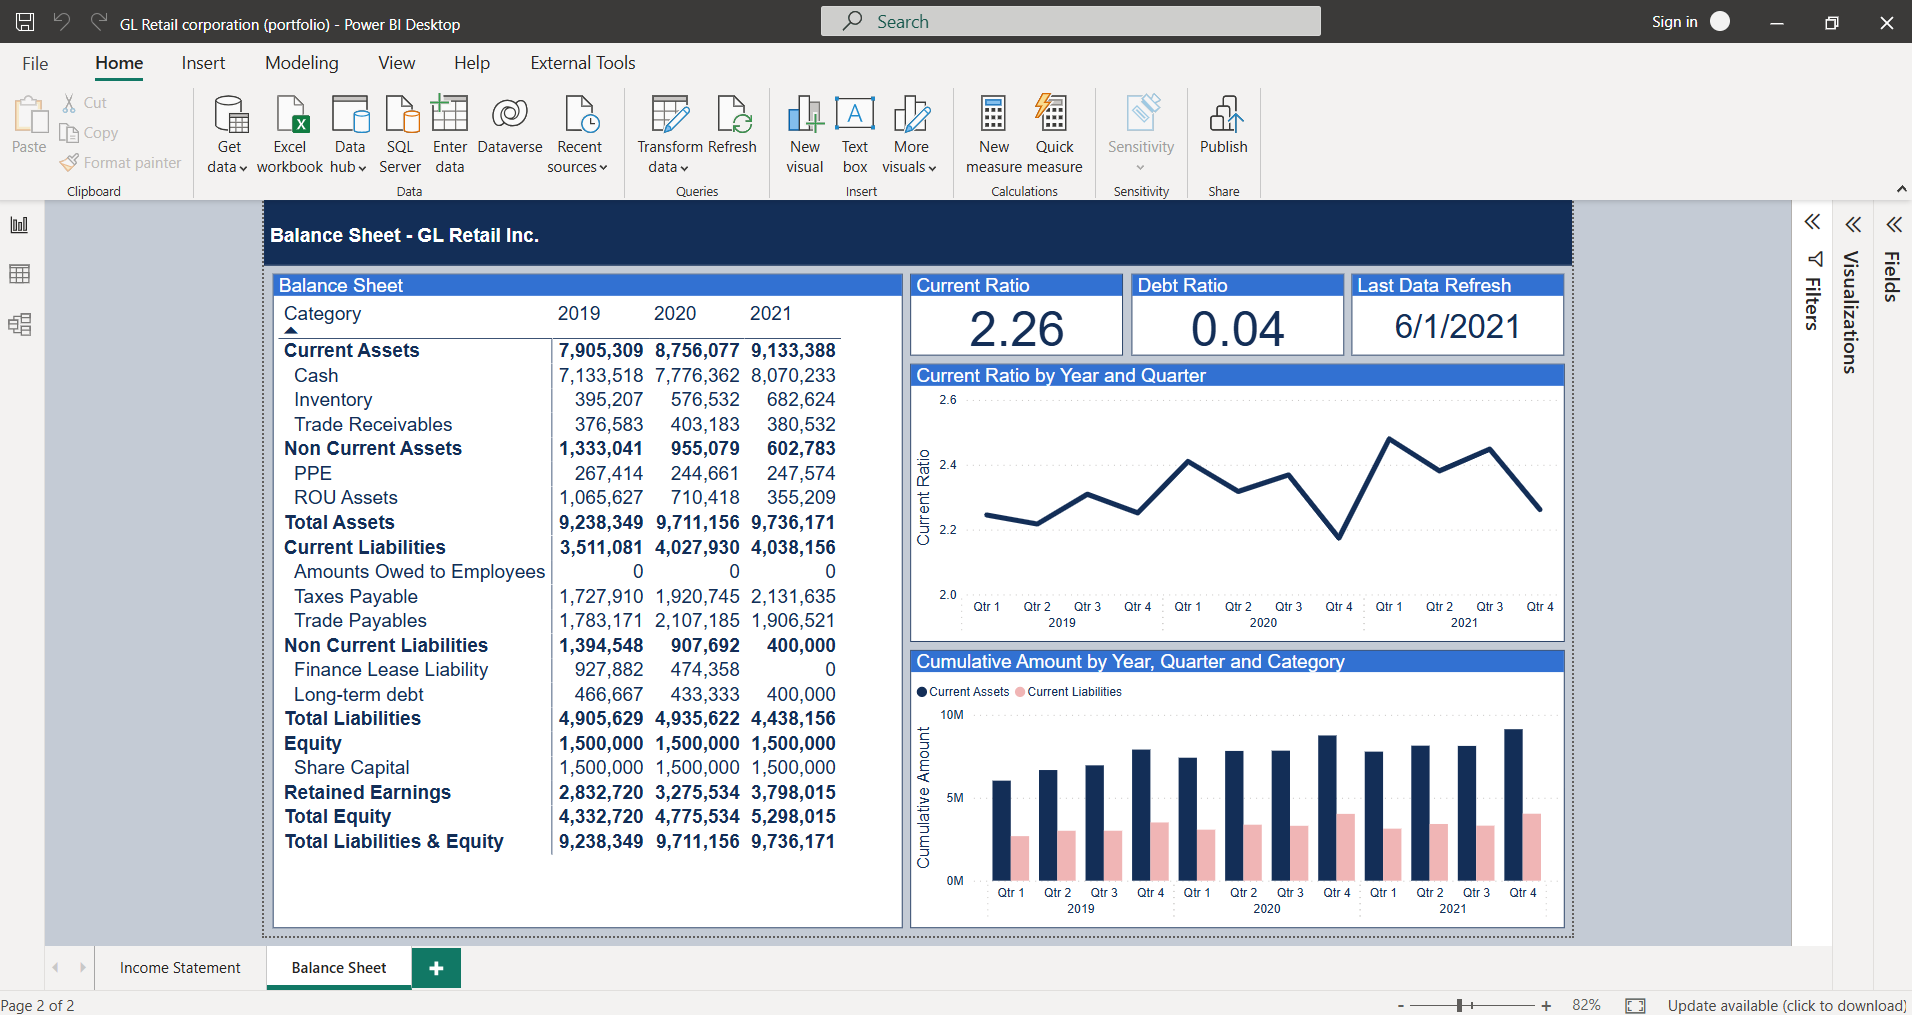

The page's visual inventory and layout, read from the dashboard file:
{"tool":"powerbi","page":{"name":"Balance Sheet","canvas":[1280,720],"ordinal":1},"visuals":[{"type":"shape","box":[0,0,1280,64],"z":0},{"type":"pivotTable","title":"Balance Sheet","fields":{"Rows":["Headers.Category","GLAccts.Subcategory"],"Columns":["DimDate.Year"],"Values":["FactGLTran.Balance Sheet"]},"box":[8,72,616,640],"z":1000},{"type":"card","title":"Current Ratio","fields":{"Values":["FactGLTran.Current Ratio"]},"box":[632,72,208,80],"z":2000},{"type":"card","title":"Debt Ratio","fields":{"Values":["FactGLTran.Debt Ratio"]},"box":[848,72,208,80],"z":3000},{"type":"card","title":"Last Data Refresh","fields":{"Values":["Min(LastDataRefresh.LastDataRefresh)"]},"box":[976,576,296,80],"z":4000},{"type":"lineChart","fields":{"Category":["DimDate.Date.Variation.Date Hierarchy.Year","DimDate.Date.Variation.Date Hierarchy.Quarter","DimDate.Date.Variation.Date Hierarchy.Month","DimDate.Date.Variation.Date Hierarchy.Day"],"Y":["FactGLTran.Current Ratio"]},"box":[632,160,640,272],"z":5000},{"type":"lineClusteredColumnComboChart","fields":{"Category":["DimDate.Date.Variation.Date Hierarchy.Year","DimDate.Date.Variation.Date Hierarchy.Quarter","DimDate.Date.Variation.Date Hierarchy.Month","DimDate.Date.Variation.Date Hierarchy.Day"],"Series":["DimHeaders.Category"],"Y":["FactGLTran.Cumulative Amount"]},"box":[632,440,640,272],"z":6000},{"type":"textbox","box":[0,0,1280,64],"z":7000},{"type":"card","title":"Last Data Refresh","fields":{"Values":["Min(LastDataRefresh.LastDataRefresh)"]},"box":[1064,72,208,80],"z":8000}]}

Visuals, with their boxes on the page's 1280x720 design canvas (x1, y1, x2, y2). These are canvas units, not pixel positions in the 1912x1015 screenshot, which may show the page scaled, cropped or inside an application window:
shape: box(0, 0, 1280, 64)
"Balance Sheet" pivotTable: box(8, 72, 624, 712)
"Current Ratio" card: box(632, 72, 840, 152)
"Debt Ratio" card: box(848, 72, 1056, 152)
"Last Data Refresh" card: box(976, 576, 1272, 656)
lineChart - DimDate.Date.Variation.Date Hierarchy.Year x DimDate.Date.Variation.Date Hierarchy.Quarter: box(632, 160, 1272, 432)
lineClusteredColumnComboChart - DimDate.Date.Variation.Date Hierarchy.Year x DimDate.Date.Variation.Date Hierarchy.Quarter: box(632, 440, 1272, 712)
textbox: box(0, 0, 1280, 64)
"Last Data Refresh" card: box(1064, 72, 1272, 152)
